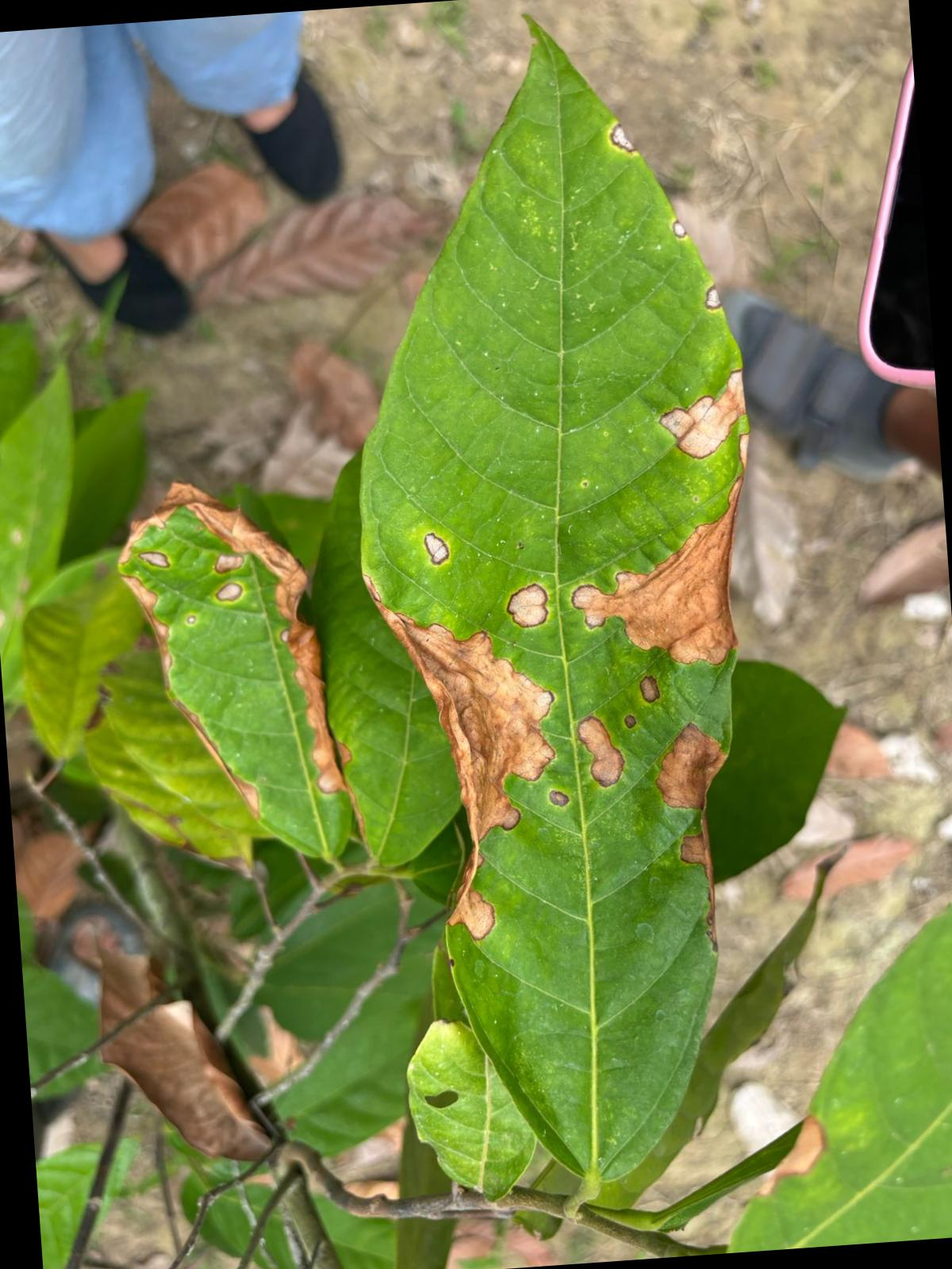Potasio: (362, 19, 747, 1191), (121, 485, 351, 859)
